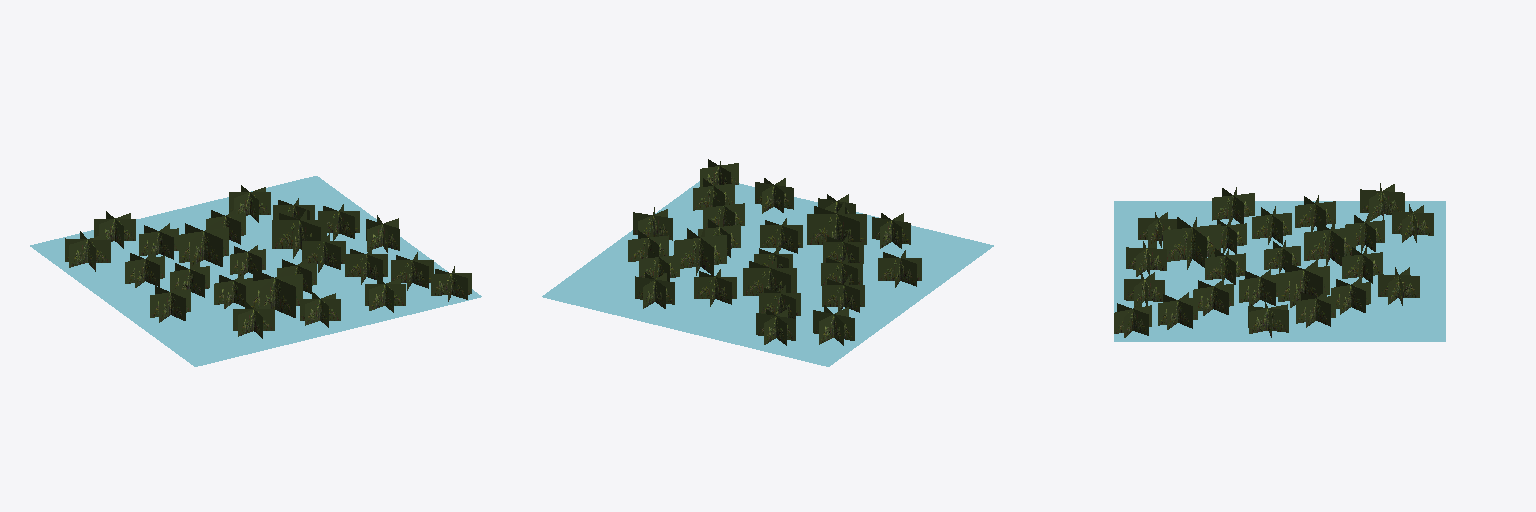
3 renders of one model, left to right at view 1: azimuth 30°, elevation 25°; view 2: azimuth 150°, elevation 25°; view 3: azimuth 270°, elevation 25°, orthographic.
Visible parts, largest first — view 1: Plane003, Plane010, Plane022, Plane017, Plane026, Plane014, Plane007, Plane006, Plane023, Plane011, Plane004, Plane024 (+13 smaller); view 2: Plane003, Plane010, Plane017, Plane022, Plane026, Plane014, Plane008, Plane020, Plane023, Plane019, Plane025, Plane011 (+12 smaller); view 3: Plane003, Plane010, Plane017, Plane022, Plane026, Plane004, Plane014, Plane007, Plane016, Plane019, Plane025, Plane015 (+13 smaller).
Part boxes in pixels (x1,y1,x2,y2): Plane003: (30, 176, 481, 366); Plane010: (246, 267, 302, 317); Plane022: (179, 222, 228, 268); Plane017: (272, 209, 326, 258); Plane026: (65, 231, 110, 271); Plane014: (150, 284, 190, 322); Plane007: (302, 233, 345, 272); Plane006: (345, 247, 387, 284); Plane023: (125, 251, 164, 287); Plane011: (233, 302, 274, 338); Plane004: (391, 252, 433, 290); Plane024: (139, 223, 178, 259); Plane003: (542, 181, 993, 366); Plane010: (807, 202, 866, 244); Plane017: (674, 228, 726, 275); Plane022: (743, 257, 796, 295); Plane026: (813, 305, 854, 345); Plane014: (878, 250, 921, 287); Plane008: (760, 218, 802, 253); Plane020: (694, 269, 736, 306); Plane023: (822, 277, 864, 312); Plane019: (635, 272, 674, 308); Plane025: (756, 309, 795, 345); Plane011: (872, 213, 910, 248); Plane003: (1114, 201, 1445, 341); Plane010: (1163, 217, 1220, 269); Plane017: (1278, 260, 1329, 307); Plane022: (1304, 219, 1355, 265); Plane026: (1360, 183, 1404, 221); Plane004: (1158, 292, 1197, 329); Plane014: (1212, 187, 1254, 223); Plane007: (1239, 269, 1277, 305); Plane016: (1296, 291, 1335, 327); Plane019: (1378, 267, 1419, 305); Plane025: (1392, 204, 1433, 242); Plane015: (1248, 301, 1288, 337).
Bounding box in the file's own units: 3072 × 334 × 3072.
2 materials, 1 textured.